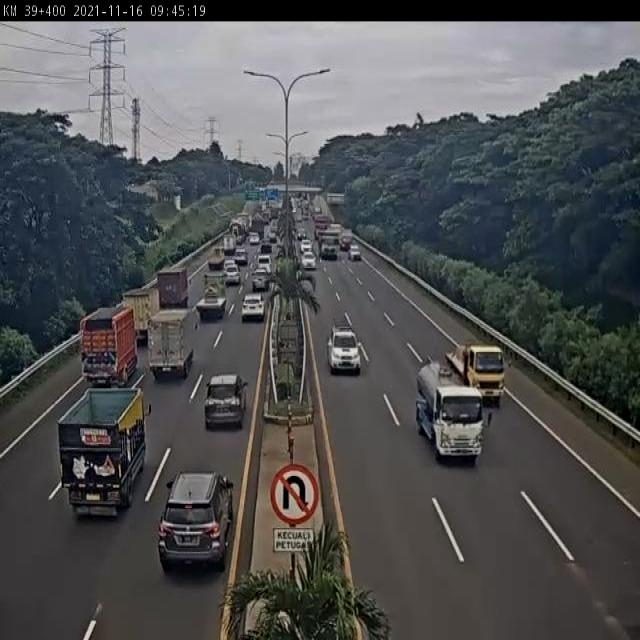Car: (158, 471, 235, 572), (203, 375, 248, 432), (326, 320, 361, 375), (241, 293, 266, 322), (252, 270, 270, 292), (224, 265, 240, 286), (300, 252, 316, 270), (234, 248, 248, 265), (348, 245, 361, 261), (300, 239, 313, 254), (260, 240, 273, 254), (248, 232, 260, 245), (296, 230, 306, 241), (269, 230, 277, 243)
Truck: (57, 386, 153, 521), (417, 362, 482, 463), (80, 307, 138, 388), (146, 309, 196, 382), (448, 343, 508, 402), (156, 268, 190, 310), (196, 273, 227, 316)
Van: (257, 253, 272, 274)
